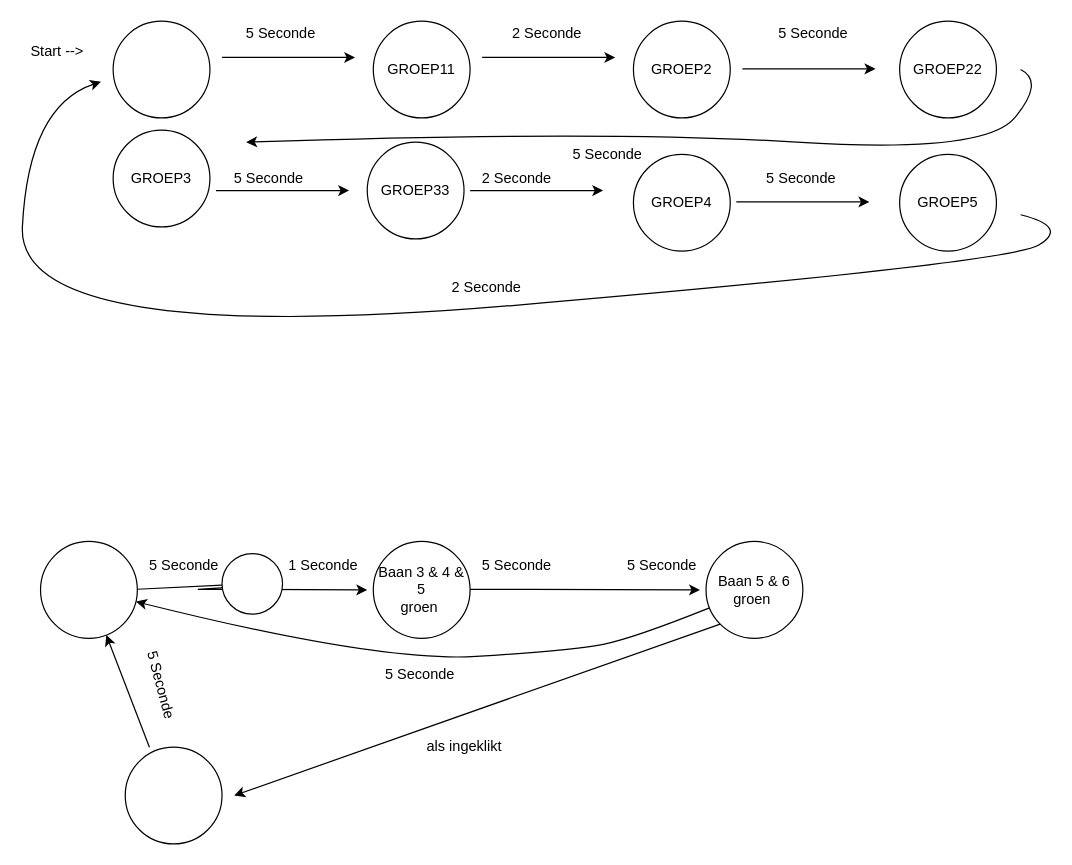
Some shapes in this 1072 by 865 pixel diagram are drawn without their labels. The shapes that lost their labels are listed below. From the top down, each one's centre as x and y in pixels, then its label:
At pixel 161 69: "GROEP1".
At pixel 88 589: "Baan 1 & 2 & 3 groen".
At pixel 252 583: "oranje".
At pixel 173 795: "Zebrapad".
